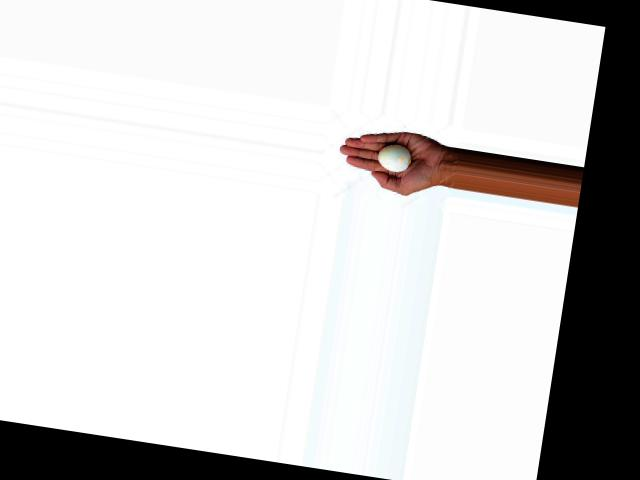egg: (375, 142, 412, 173)
